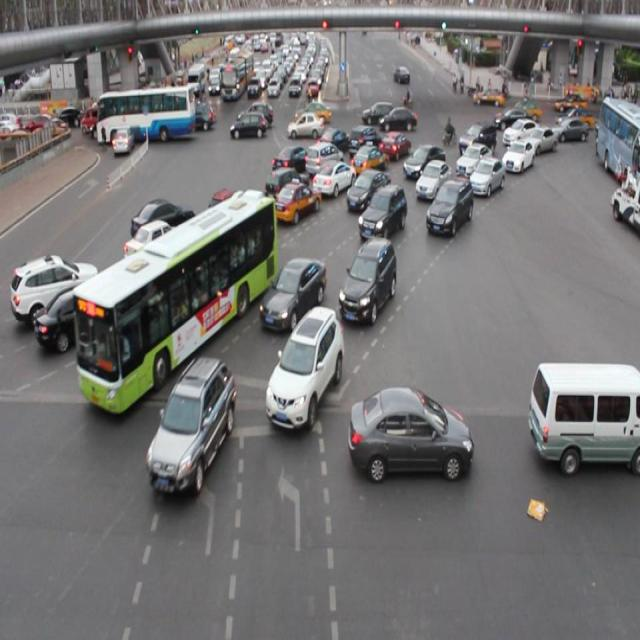car: (146, 358, 234, 492), (349, 384, 470, 481), (265, 307, 343, 430), (35, 283, 124, 350), (12, 254, 98, 320), (259, 255, 325, 334), (338, 239, 397, 320), (128, 255, 205, 312), (123, 221, 193, 273), (203, 212, 270, 266), (202, 188, 260, 241), (131, 198, 193, 246), (424, 176, 471, 234), (357, 184, 406, 239), (272, 178, 320, 224), (345, 168, 390, 214), (264, 167, 310, 205), (403, 142, 444, 182), (312, 160, 355, 196), (272, 143, 314, 179), (454, 143, 492, 182), (348, 141, 386, 178), (468, 157, 503, 197), (415, 159, 449, 200), (457, 123, 495, 158), (348, 124, 383, 159), (514, 125, 556, 152), (316, 126, 350, 158), (501, 139, 532, 174), (379, 130, 410, 162), (502, 118, 538, 142)
truck: (529, 361, 640, 470), (304, 142, 343, 177)
van: (76, 196, 275, 414)
